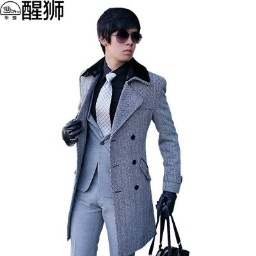face: (95, 7, 141, 60)
